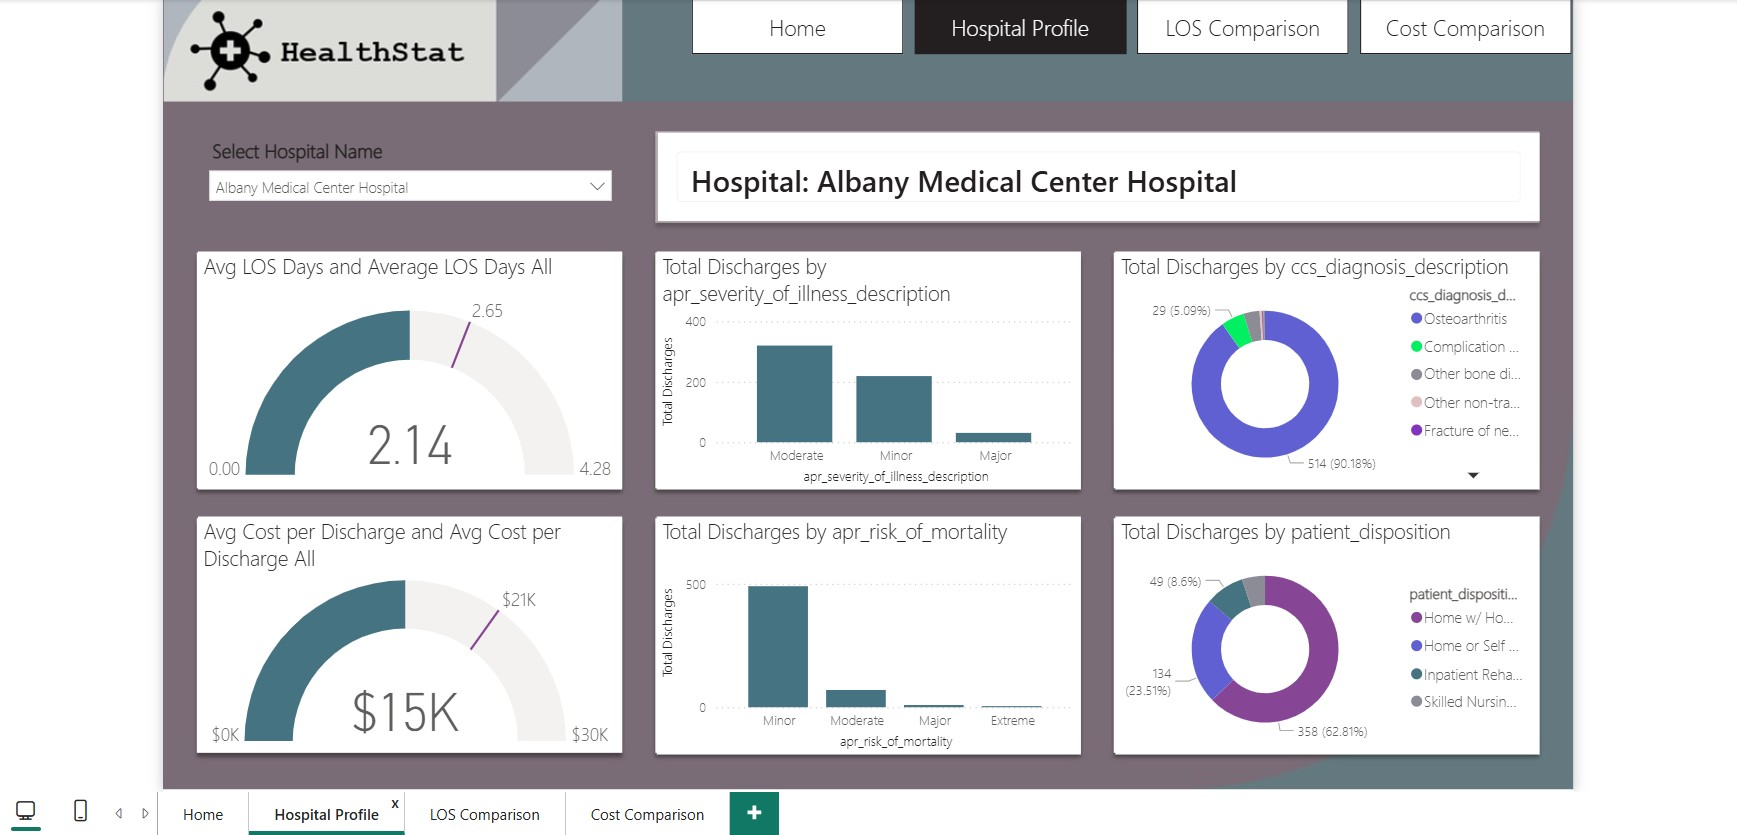

Layout of this report page (visuals, bound fields, positions):
{"tool":"powerbi","page":{"name":"Hospital Profile","canvas":[1280,720],"ordinal":1},"visuals":[{"type":"gauge","fields":{"Y":["_Measures.Avg LOS Days"],"TargetValue":["_Measures.Average LOS Days All"]},"box":[31.4,229.1,384.9,216.3],"z":0},{"type":"gauge","fields":{"Y":["_Measures.Avg Cost per Discharge"],"TargetValue":["_Measures.Avg Cost per Discharge All"]},"box":[31.4,469.8,384.9,214],"z":1000},{"type":"clusteredColumnChart","fields":{"Y":["_Measures.Total Discharges"],"Category":["hospital_discharges.apr_severity_of_illness_description"]},"box":[447.7,229.1,384.9,216.3],"z":2000},{"type":"clusteredColumnChart","fields":{"Category":["hospital_discharges.apr_risk_of_mortality"],"Y":["_Measures.Total Discharges"]},"box":[447.7,469.8,384.9,216.3],"z":3000},{"type":"donutChart","fields":{"Y":["_Measures.Total Discharges"],"Category":["hospital_discharges.ccs_diagnosis_description"]},"box":[864,229.1,384.9,216.3],"z":4000},{"type":"donutChart","fields":{"Y":["_Measures.Total Discharges"],"Category":["hospital_discharges.patient_disposition"]},"box":[864,469.8,384.9,216.3],"z":5000},{"type":"slicer","title":"Select Health service area","fields":{"Values":["hospital_discharges.facility_name"]},"box":[31.4,120.9,384.9,80.2],"z":6000},{"type":"cardVisual","fields":{"Data":["_Measures.Title Selected Facility"]},"box":[448.8,120.9,800,80.2],"z":7000},{"type":"pageNavigator","box":[480.2,0,800,50],"z":7001}]}

Visuals, with their boxes in screenshot pixels (x1, y1, x2, y2):
gauge - _Measures.Avg LOS Days x _Measures.Average LOS Days All: region(193, 249, 619, 488)
gauge - _Measures.Avg Cost per Discharge x _Measures.Avg Cost per Discharge All: region(193, 515, 619, 751)
clusteredColumnChart - _Measures.Total Discharges x hospital_discharges.apr_severity_of_illness_description: region(653, 249, 1079, 488)
clusteredColumnChart - hospital_discharges.apr_risk_of_mortality x _Measures.Total Discharges: region(653, 515, 1079, 754)
donutChart - _Measures.Total Discharges x hospital_discharges.ccs_diagnosis_description: region(1114, 249, 1539, 488)
donutChart - _Measures.Total Discharges x hospital_discharges.patient_disposition: region(1114, 515, 1539, 754)
"Select Health service area" slicer: region(193, 129, 619, 218)
cardVisual - _Measures.Title Selected Facility: region(654, 129, 1539, 218)
pageNavigator: region(689, 0, 1574, 51)
